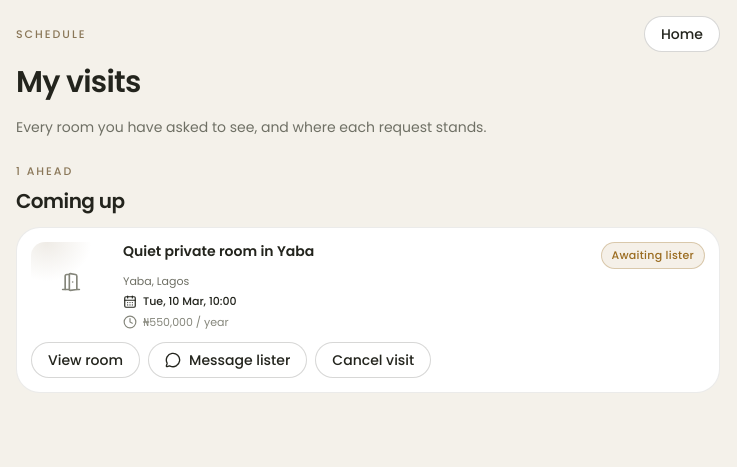
Test: My Visits screen › surfaces a failed cancellation on the card
Click the button "Cancel visit": point(373, 360) [315,342,431,378]
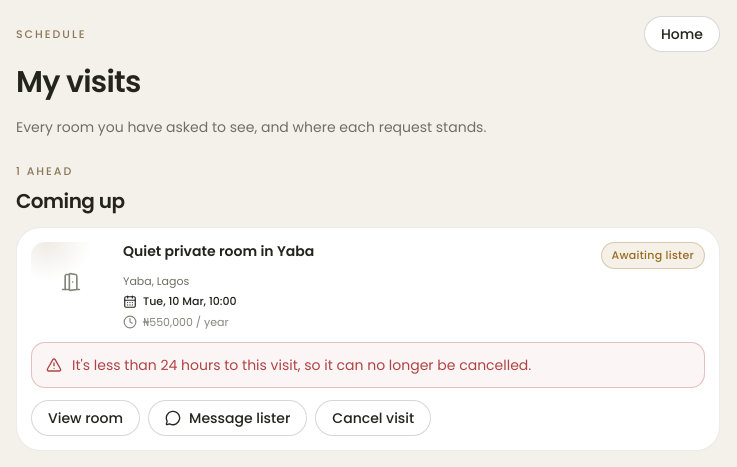
Check: the text "less than 24 hours" is shown, box [72,355,531,375]
